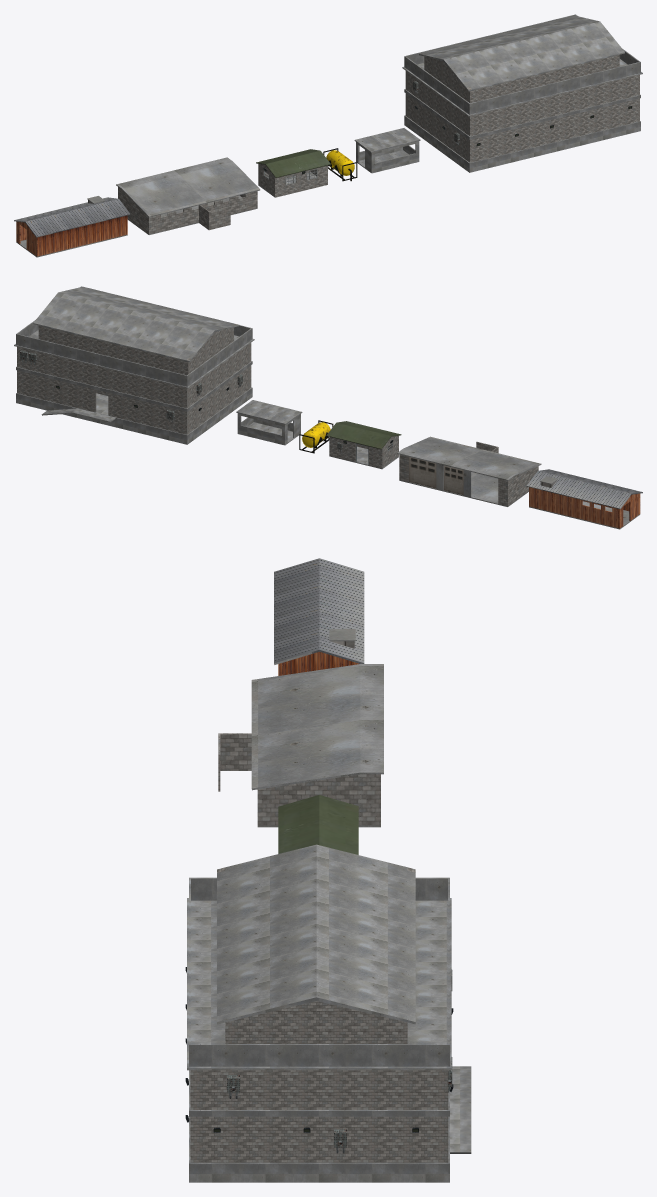
File: military_buildings.fbx
3 views of the same model, one above another, from view 1: azimuth 30°, elevation 25°; view 2: azimuth 150°, elevation 25°; view 3: azimuth 270°, elevation 25° (orthographic). The views are drawn at different scales.
Visible parts, largest first — view 1: BUILDING_2_1, garage_2, Cube_4, building_1_0, checkpost_3, Cube_001_5; view 2: BUILDING_2_1, garage_2, Cube_4, building_1_0, checkpost_3, Cube_001_5; view 3: BUILDING_2_1, garage_2, Cube_4, building_1_0.
Boxes of the visible parts, box(x1,y1,x2,y2) form: BUILDING_2_1: box(402, 14, 642, 172); garage_2: box(116, 157, 260, 234); Cube_4: box(14, 196, 130, 257); building_1_0: box(256, 149, 330, 197); checkpost_3: box(354, 128, 420, 173); Cube_001_5: box(323, 148, 357, 181); BUILDING_2_1: box(14, 286, 254, 444); garage_2: box(397, 436, 541, 506); Cube_4: box(526, 469, 642, 529); building_1_0: box(326, 421, 401, 469); checkpost_3: box(236, 400, 302, 445); Cube_001_5: box(299, 420, 333, 453); BUILDING_2_1: box(185, 844, 471, 1182); garage_2: box(218, 664, 383, 827); Cube_4: box(274, 558, 364, 675); building_1_0: box(278, 795, 358, 854).
Bounding box in the file's own units: 2053 × 300 × 435.
